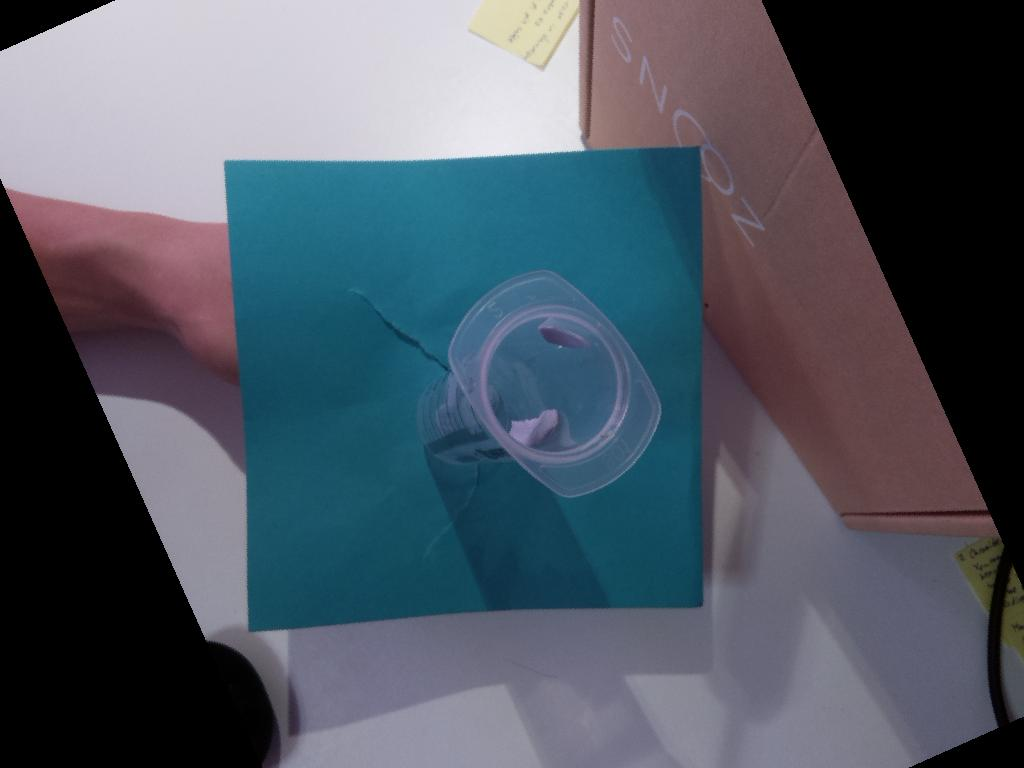dirty: (446, 269, 663, 496)
